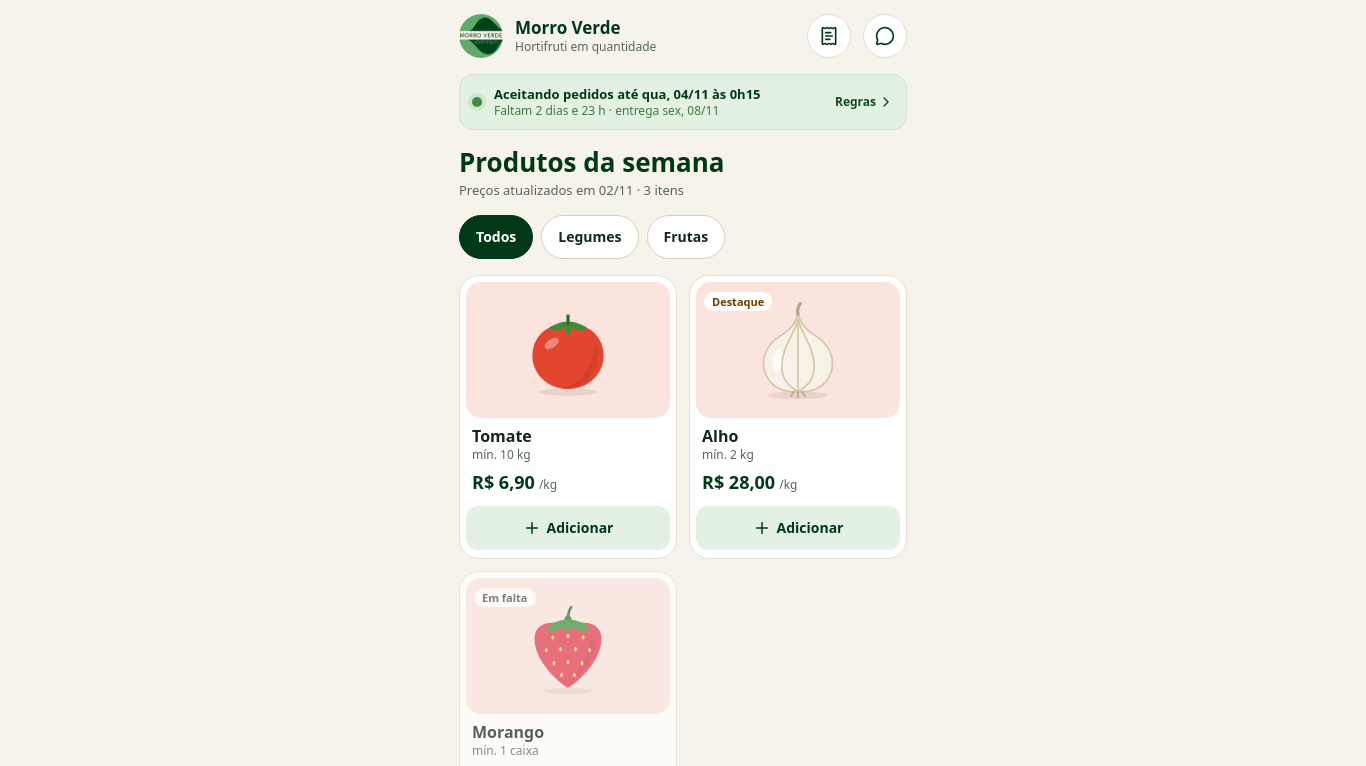
Test case: catálogo › "Regras" abre o Como funciona
The width and height of the screenshot is (1366, 766).
What coordinates should you click on to do the following:
click the button "Aceitando pedidos"
I would click on:
 (683, 102)
Its box is [459,74,907,130].
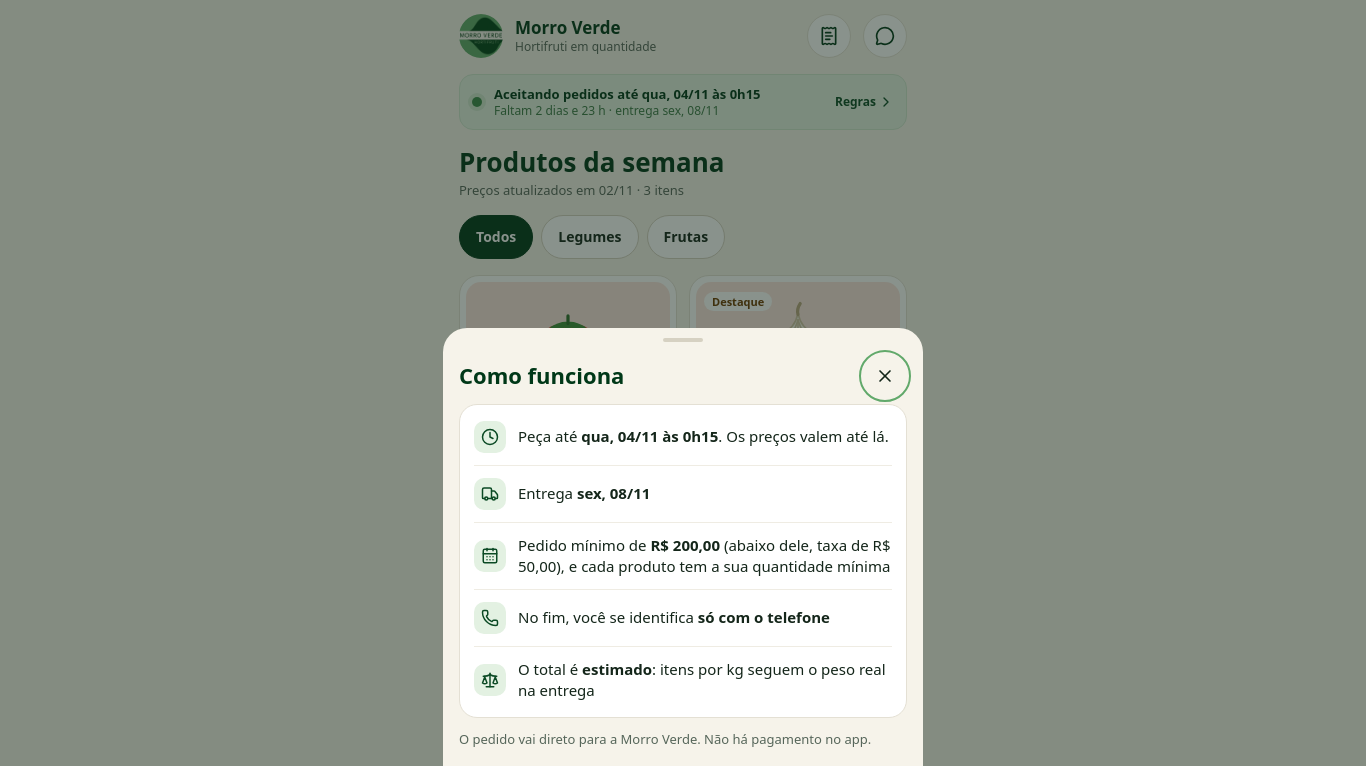
Check: the text "R$ 200,00" is shown, box [650,535,720,555]
Check: the text "só com o telefone" is shown, box [698,607,830,627]
